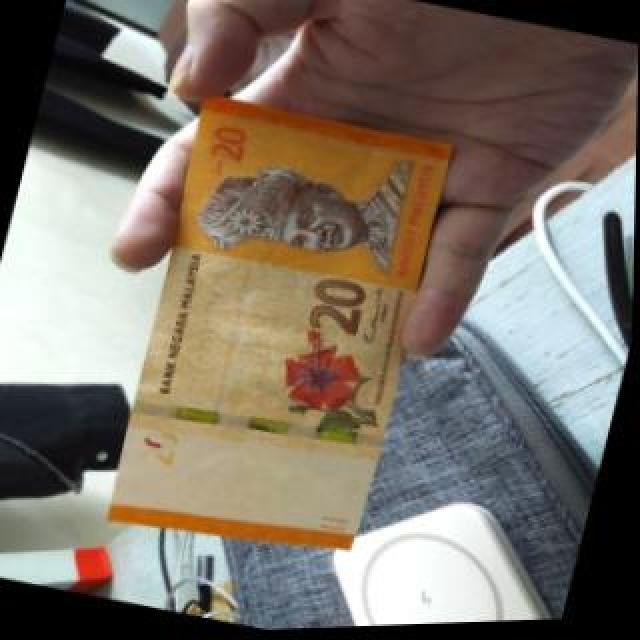20 Ringgit: (98, 86, 456, 576)
